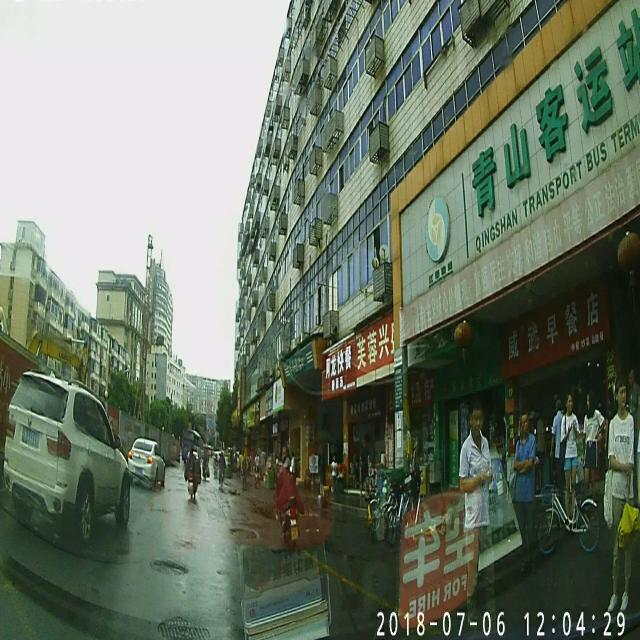car: (8, 370, 133, 532), (128, 437, 166, 485)
